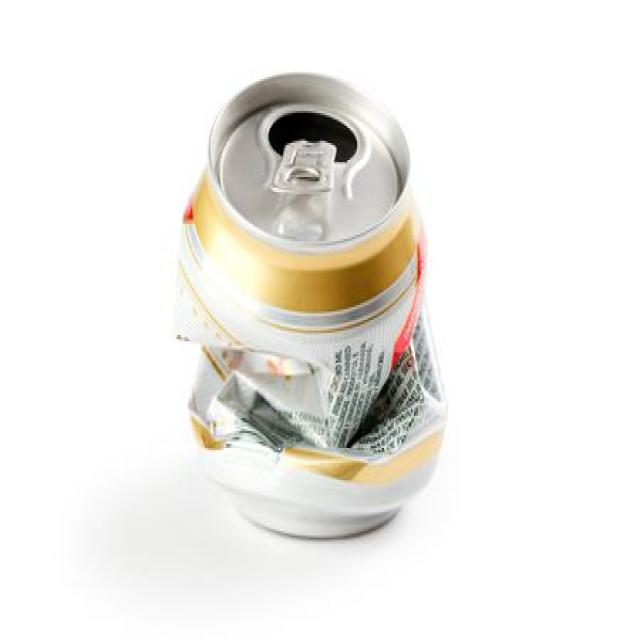non-organic waste: (170, 59, 493, 562)
